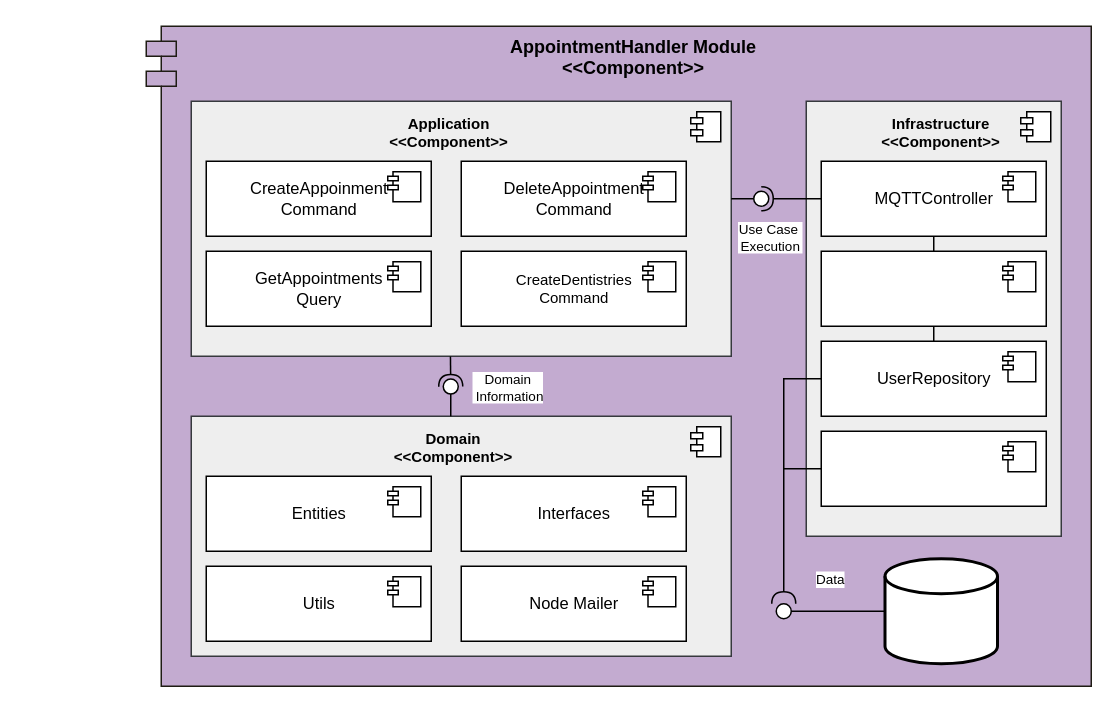
This 1118x713 diagram has some shape labels left out. The shapes that lost their labels are listed below. From the top down, each one's centre as x and y in pixels, then its label:
At pixel 933 288: "Models".
At pixel 933 468: "Appointment Repository".
At pixel 940 610: "MongoDB".
